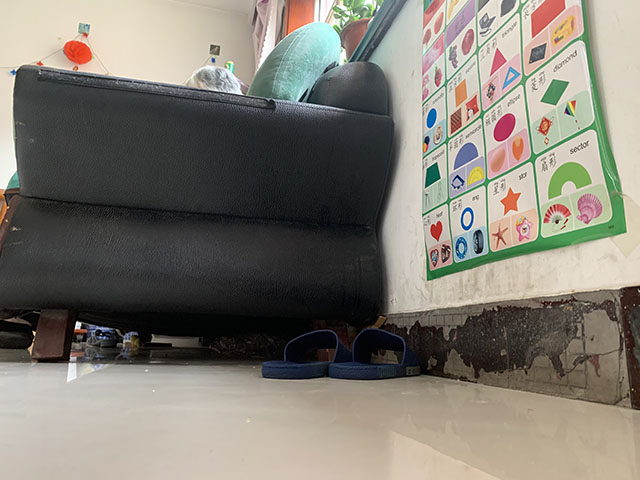slippers: (333, 329, 421, 381), (260, 327, 348, 379)
sofa: (1, 21, 396, 364)
